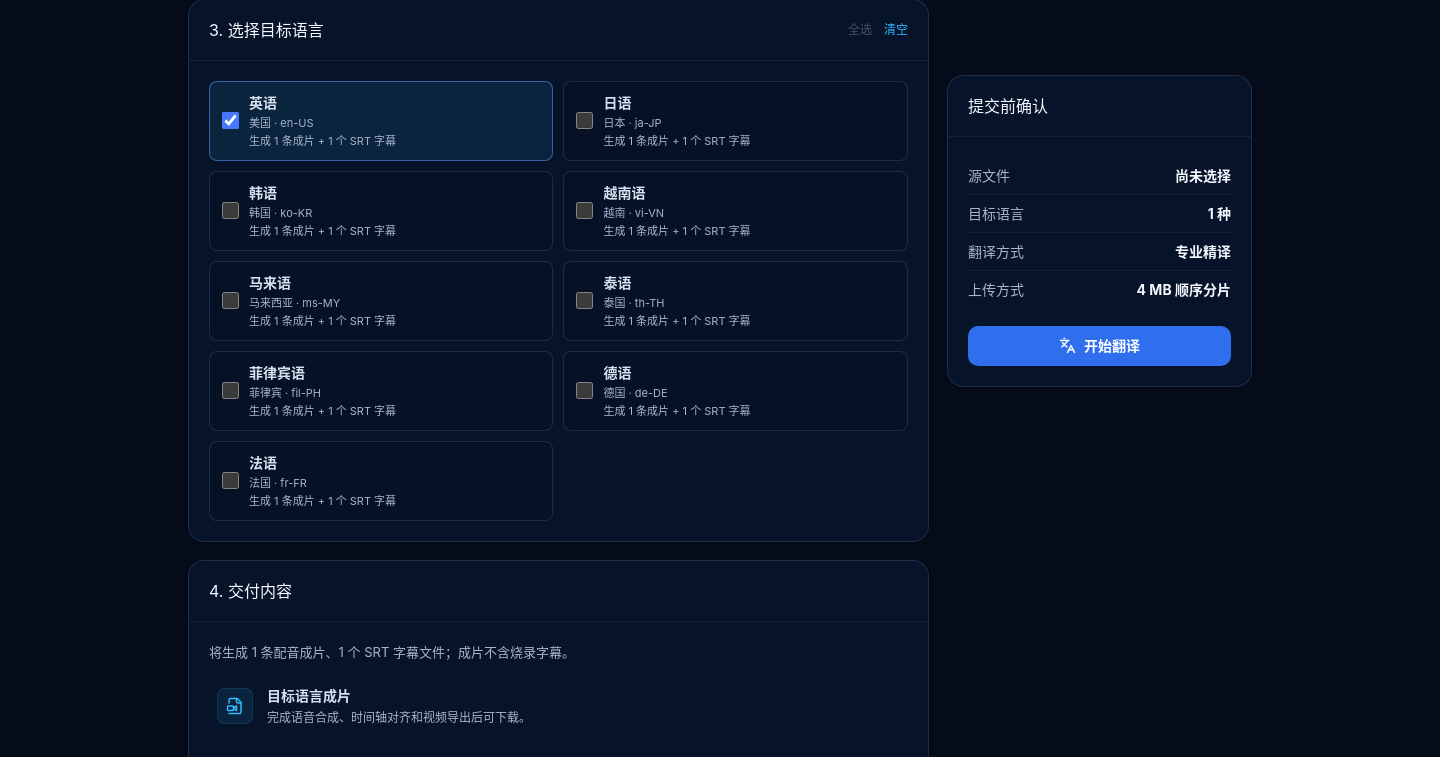
Scenario: NewTranslationView › 选择菲律宾语后不能使用智能翻译
(page scrolled)
Click the checkbox labelled "菲律宾语 菲律宾 · fil-PH 生成 1 条成片 + 1 个 SRT 字幕": point(230, 391) [222,382,239,399]
(page scrolled)
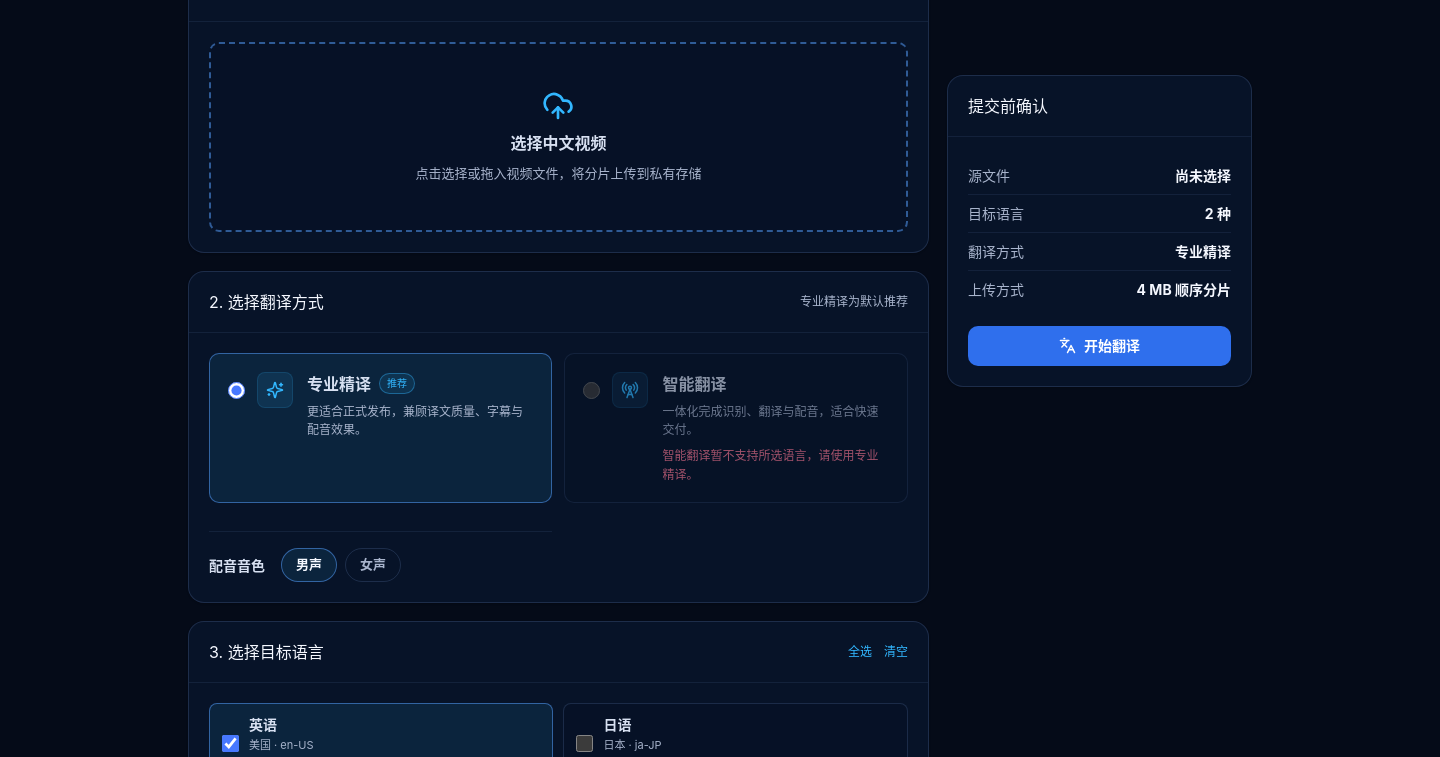
Expected: the radio button named "translation-mode" is disabled, [584,382,600,399]
Expected: the text "智能翻译暂不支持所选语言" is shown, [662,448,878,482]
